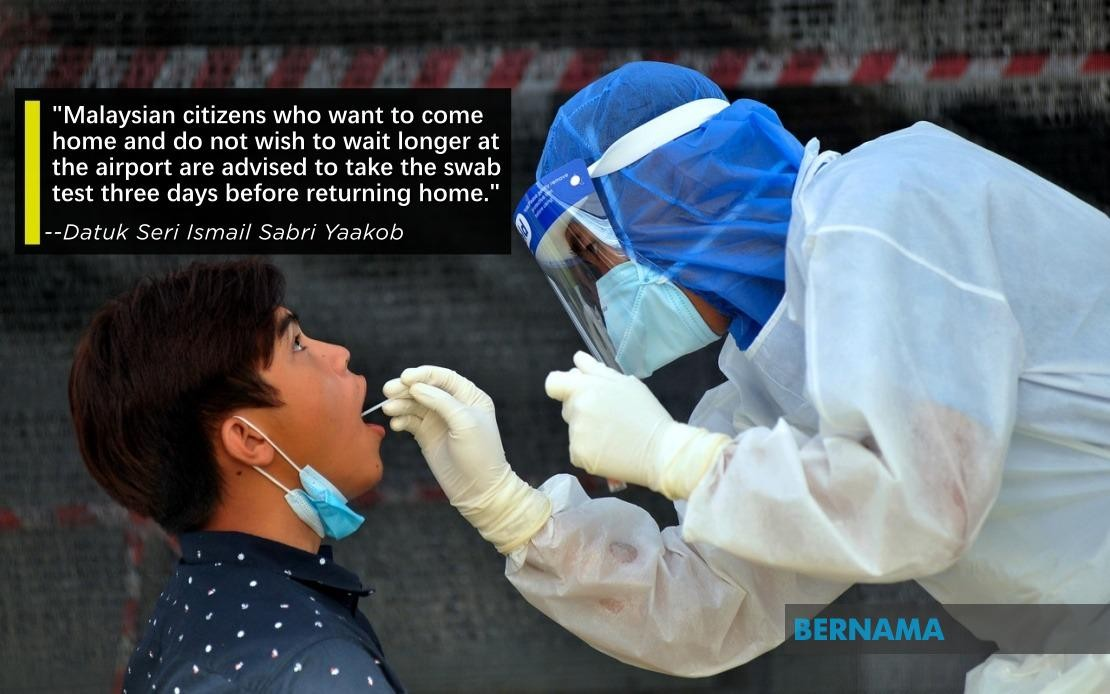Coverall: (524, 61, 1110, 686)
Face_Shield: (500, 153, 688, 391)
Gloves: (540, 347, 733, 509), (383, 356, 538, 551)
mask_weared_incorrect: (268, 310, 386, 549)
with_mask: (577, 221, 711, 379)
